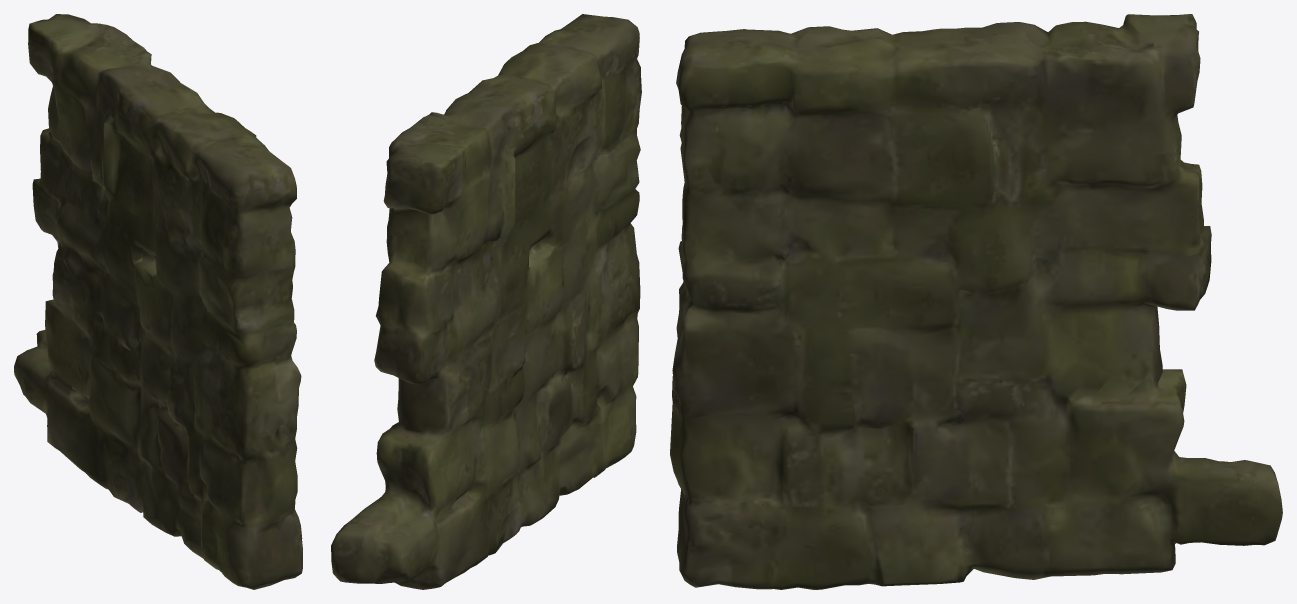
The model's file is Ruins_BrickWall03-transformed.glb.
3 renders of one model, left to right at view 1: azimuth 30°, elevation 25°; view 2: azimuth 150°, elevation 25°; view 3: azimuth 270°, elevation 25°, orthographic. The views are drawn at different scales.
Visible parts, largest first — view 1: Ruins_BrickWall03; view 2: Ruins_BrickWall03; view 3: Ruins_BrickWall03.
Part boxes in pixels (x1=…): Ruins_BrickWall03: x1=14, y1=14, x2=302, y2=589; Ruins_BrickWall03: x1=331, y1=14, x2=641, y2=589; Ruins_BrickWall03: x1=670, y1=14, x2=1282, y2=589.
Bounding box in the file's own units: 0.8595 × 4.45 × 4.57.
Materials: 1 (1 with a texture image).
